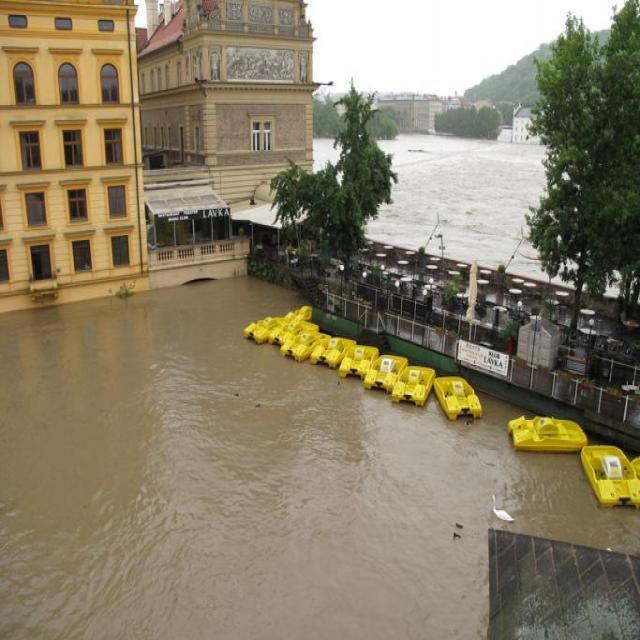flood: (0, 284, 612, 640), (360, 125, 559, 275)
